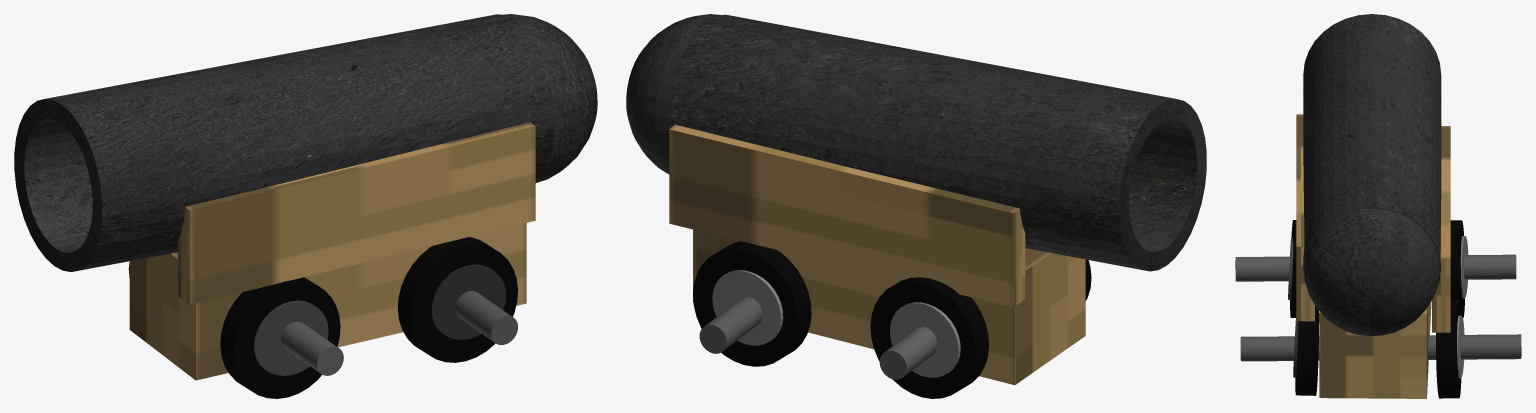
File: lab2-blender.glb
3 renders of one model, left to right at view 1: azimuth 30°, elevation 25°; view 2: azimuth 150°, elevation 25°; view 3: azimuth 270°, elevation 25°, orthographic. The views are drawn at different scales.
Parts seen in each view (by area): view 1: Cylinder.010, Cube.002, Cube, Cylinder.002, Cylinder.005, Sphere, Cylinder.001, Cylinder.004, Cylinder, Cylinder.009; view 2: Cylinder.010, Cube.001, Cube, Cylinder.006, Cylinder.008, Sphere, Cylinder.007, Cylinder.003, Cylinder.009, Cylinder; view 3: Cylinder.010, Sphere, Cube, Cylinder.009, Cylinder, Cube.001, Cube.002, Cylinder.006, Cylinder.002, Cylinder.008, Cylinder.005, Cylinder.003 (+1 smaller).
Part boxes in pixels (x1,y1,x2,y2): Cylinder.010: (14, 14, 554, 271); Cube.002: (178, 122, 535, 304); Cube: (129, 223, 526, 380); Cylinder.002: (397, 237, 517, 362); Cylinder.005: (220, 277, 340, 398); Sphere: (502, 14, 597, 182); Cylinder.001: (431, 264, 506, 339); Cylinder.004: (254, 300, 328, 375); Cylinder: (281, 321, 343, 375); Cylinder.009: (455, 291, 517, 344); Cylinder.010: (668, 14, 1206, 271); Cube.001: (669, 124, 1025, 307); Cube: (693, 229, 1085, 385); Cylinder.006: (693, 241, 811, 366); Cylinder.008: (870, 277, 988, 398); Sphere: (626, 14, 721, 174); Cylinder.007: (890, 302, 960, 377); Cylinder.003: (712, 270, 783, 345); Cylinder.009: (699, 296, 762, 353); Cylinder: (879, 326, 937, 379); Cylinder.010: (1303, 14, 1441, 292); Sphere: (1303, 208, 1439, 336); Cube: (1319, 301, 1431, 398); Cylinder.009: (1240, 334, 1521, 361); Cylinder: (1235, 254, 1516, 281); Cube.001: (1432, 126, 1450, 332); Cube.002: (1296, 114, 1314, 321); Cylinder.006: (1436, 300, 1461, 398); Cylinder.002: (1295, 306, 1319, 395); Cylinder.008: (1450, 220, 1464, 317); Cylinder.005: (1290, 220, 1296, 317); Cylinder.003: (1457, 315, 1464, 378).
Size of the model in its own units: 3.08 by 1.71 by 1.83.
Materials: 16 (5 with a texture image).
